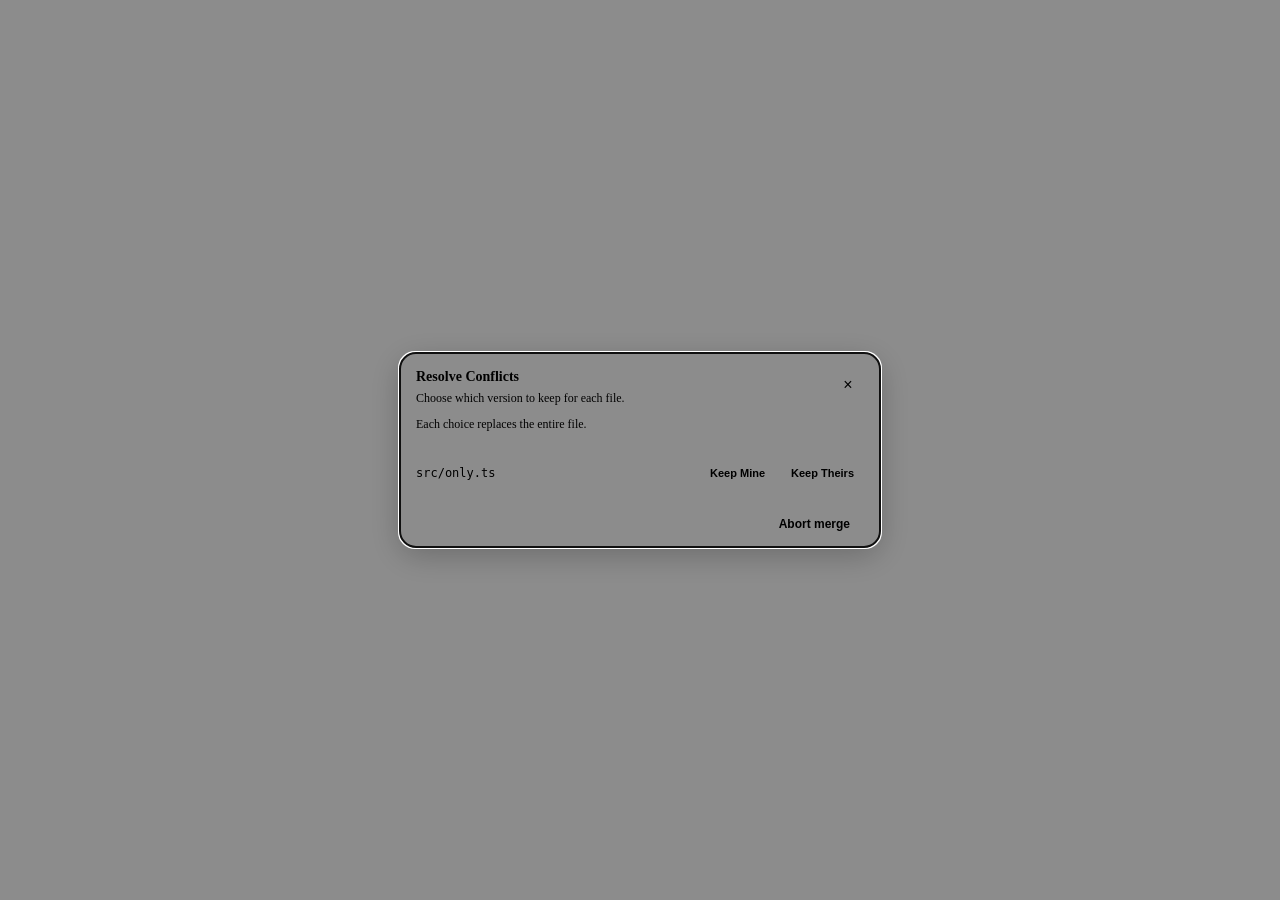
Test: ConflictResolver › disables Complete merge when the commit message is empty
The image size is (1280, 900).
Step 1. Click the button "Keep Mine" → (738, 473), box [700,463,775,483]
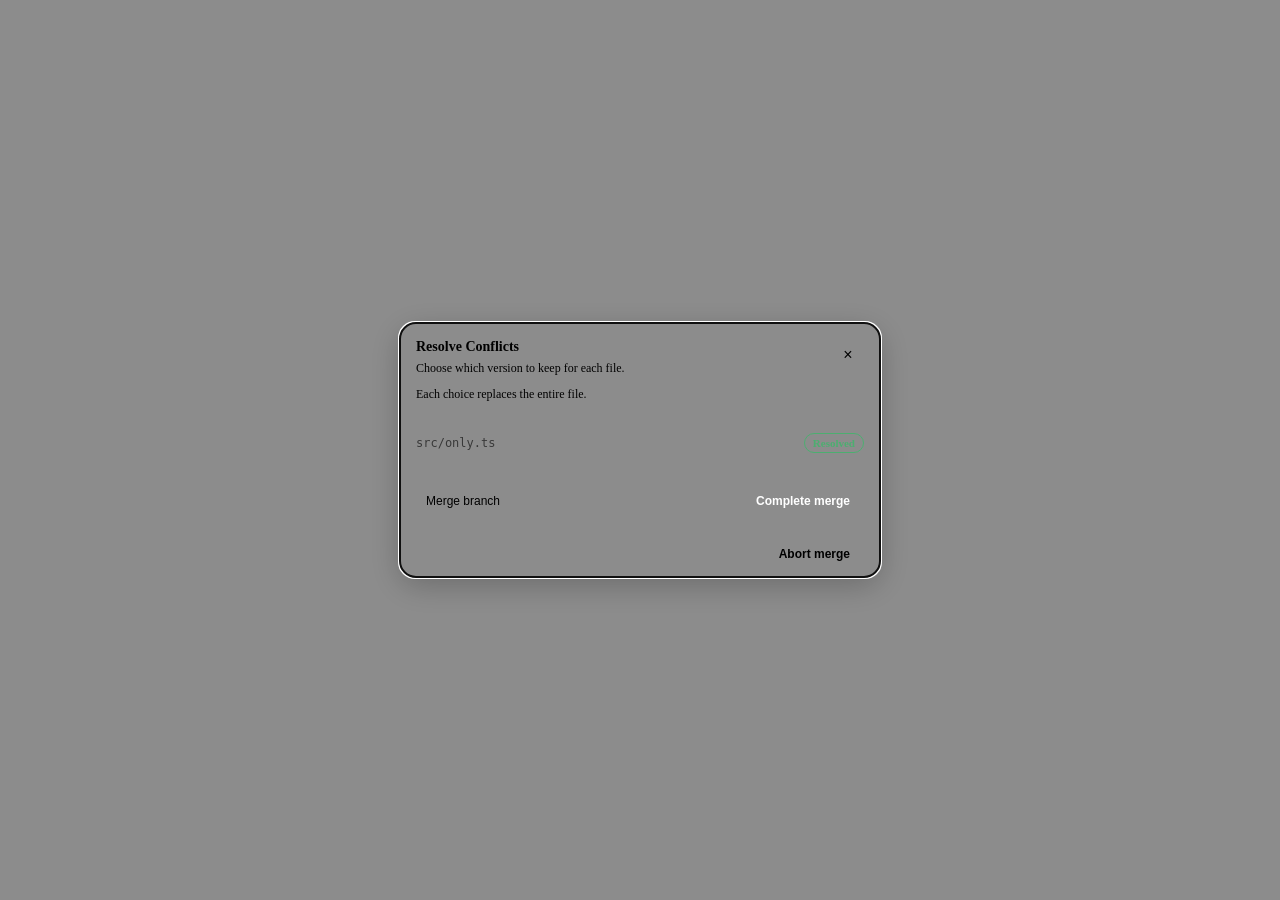
Expected: the text "Resolved" is shown, [804,433,864,453]
Step 2. Clear the field → (575, 501), box [416,483,734,519]
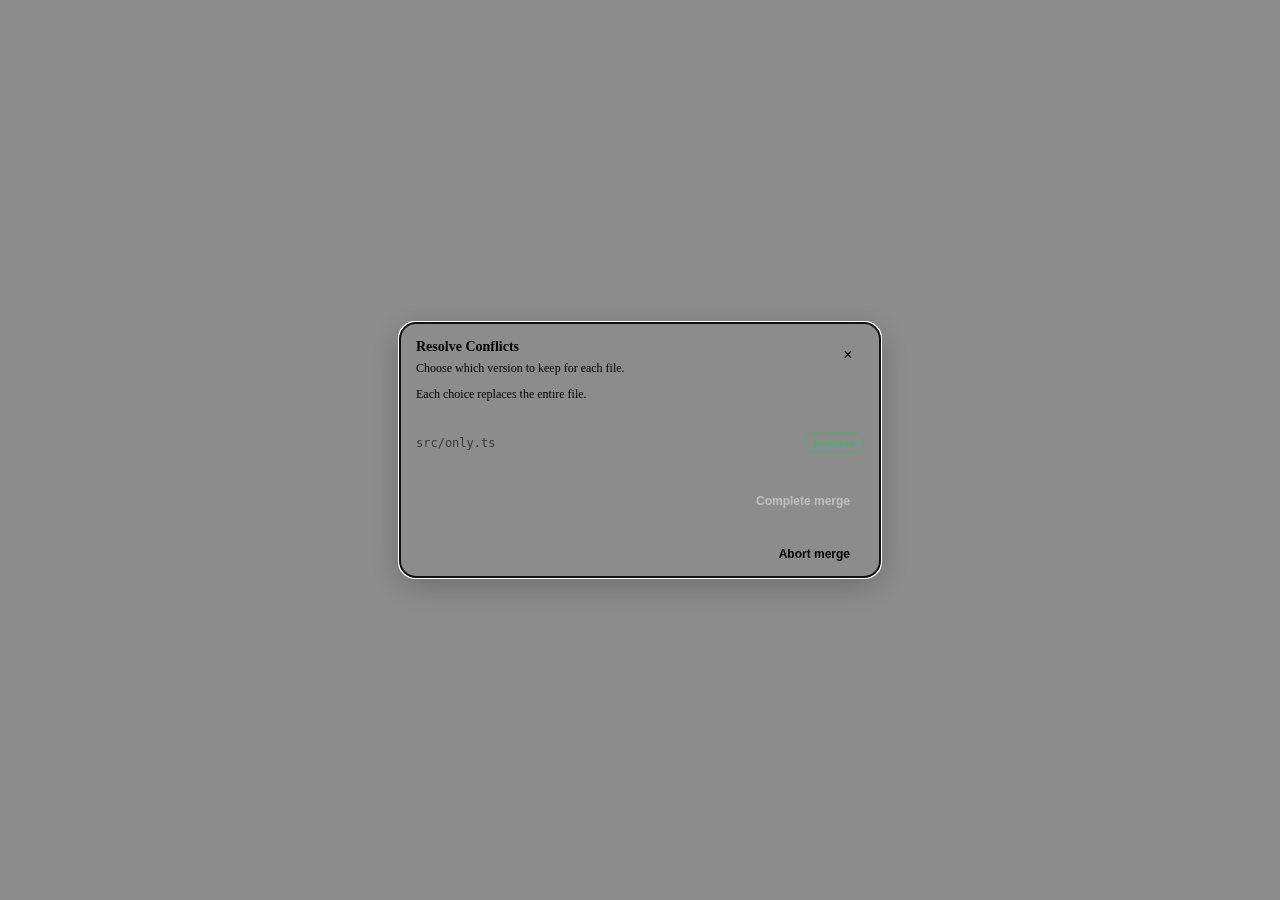
Expected: the button "Complete merge" is disabled, [742,483,864,519]
